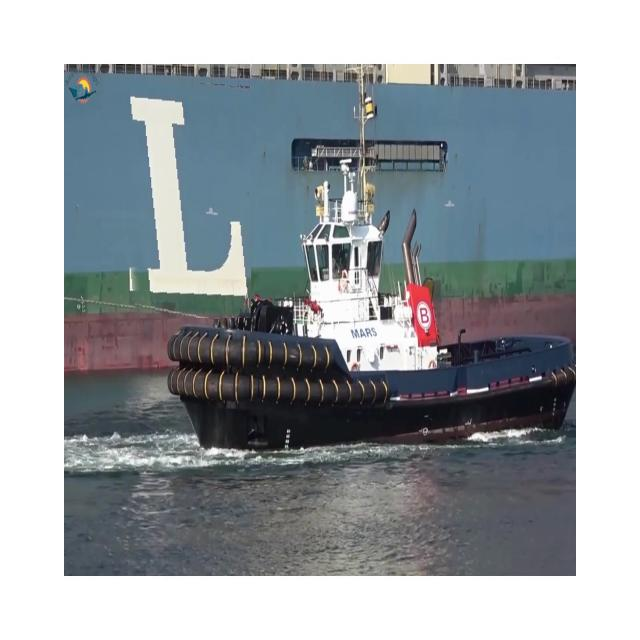OCR: (112, 76, 251, 318)
